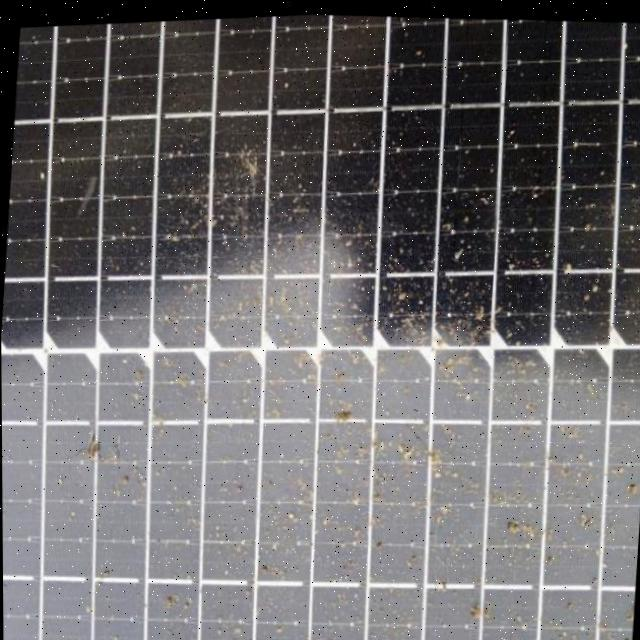Surface Contaminant: (1, 10, 640, 640)
